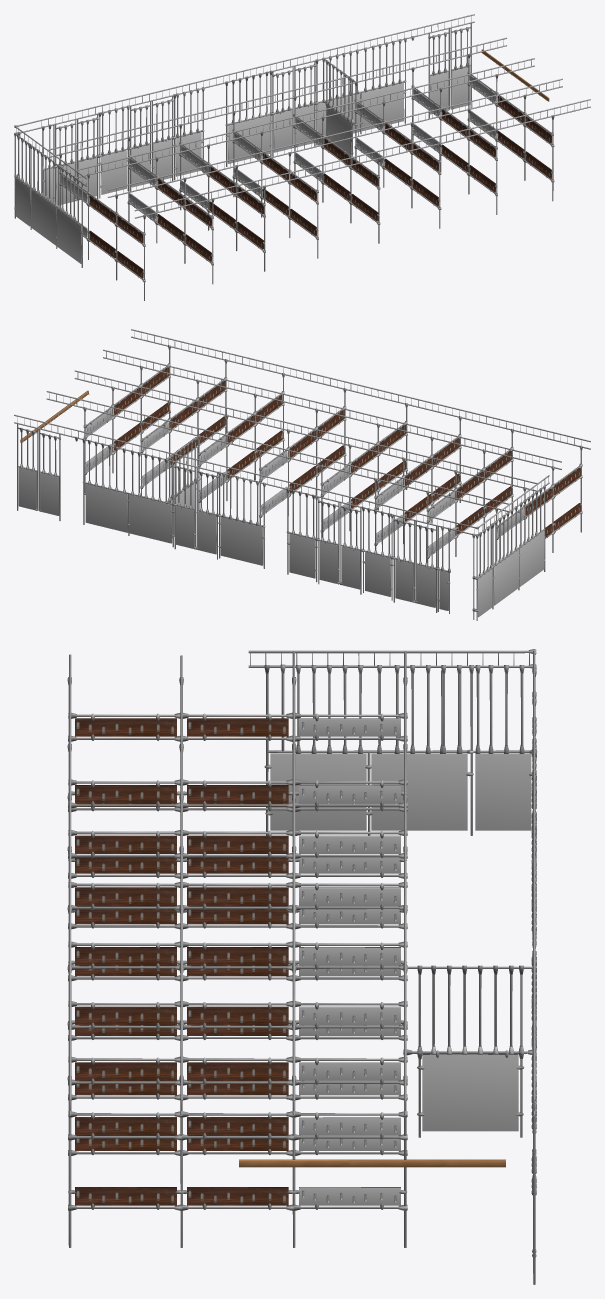
File: wardrobe_free_playstation.fbx
The picture shows the model from 3 angles, top to bottom: view 1: azimuth 30°, elevation 25°; view 2: azimuth 150°, elevation 25°; view 3: azimuth 270°, elevation 25°; orthographic projection. The views are drawn at different scales.
Visible parts, largest first — view 1: Cube.1278, Cube.1301, Cube.1280, Cube.1282, Cube.1335, Cube.1422, Cube.1364, Cube.1423, Cube.1360, Cylinder.509, Cube.1174, Cube.1279 (+19 smaller); view 2: Cube.1278, Cube.1280, Cube.1279, Cube.1301, Cube.1335, Cube.1364, Cube.1282, Cube.1331, Cube.1360, Cube.1422, Cube.1423, Cylinder.509 (+19 smaller); view 3: Cube.1174, Cube.1422, Cube.1423, Cube.1429, Cube.1265, Cube.015, Cube.016, Cube.024, Cube.037, Cube.034, Cube.041, Cube.072 (+48 smaller).
Boxes of the visible parts, x1,y1,x2,y2 form: Cube.1278: (361, 82, 403, 131); Cube.1301: (430, 66, 470, 114); Cube.1280: (227, 115, 269, 163); Cube.1282: (273, 104, 314, 152); Cube.1335: (131, 139, 171, 187); Cube.1422: (31, 190, 56, 245); Cube.1364: (56, 157, 96, 205); Cube.1423: (57, 208, 81, 263); Cube.1360: (101, 150, 126, 194); Cylinder.509: (17, 14, 474, 126); Cube.1174: (327, 105, 351, 155); Cube.1279: (318, 93, 360, 138); Cube.1278: (85, 483, 128, 532); Cube.1280: (220, 516, 263, 565); Cube.1279: (129, 494, 172, 543); Cube.1301: (18, 467, 59, 515); Cube.1335: (319, 541, 360, 589); Cube.1364: (395, 559, 435, 607); Cube.1282: (176, 506, 216, 554); Cube.1331: (289, 533, 315, 578); Cube.1360: (365, 552, 391, 596); Cube.1422: (493, 549, 518, 605); Cube.1423: (519, 530, 544, 586); Cylinder.509: (14, 414, 474, 527); Cube.1174: (422, 1054, 518, 1131); Cube.1422: (371, 753, 467, 830); Cube.1423: (270, 753, 366, 830); Cube.1429: (475, 753, 531, 830); Cube.1265: (239, 1159, 505, 1167); Cube.015: (75, 1187, 176, 1205); Cube.016: (187, 1187, 288, 1205); Cube.024: (187, 1062, 288, 1080); Cube.037: (187, 947, 288, 965); Cube.034: (75, 947, 176, 965); Cube.041: (187, 887, 288, 905); Cube.072: (187, 718, 288, 736).
Size of the model in its own units: 687 by 135 by 303.
